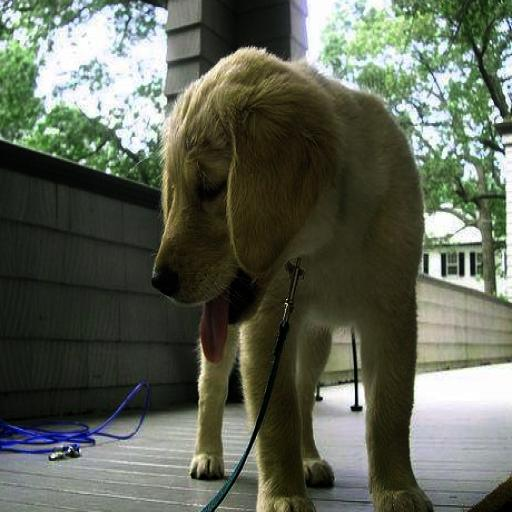dog_face: (146, 73, 327, 314)
